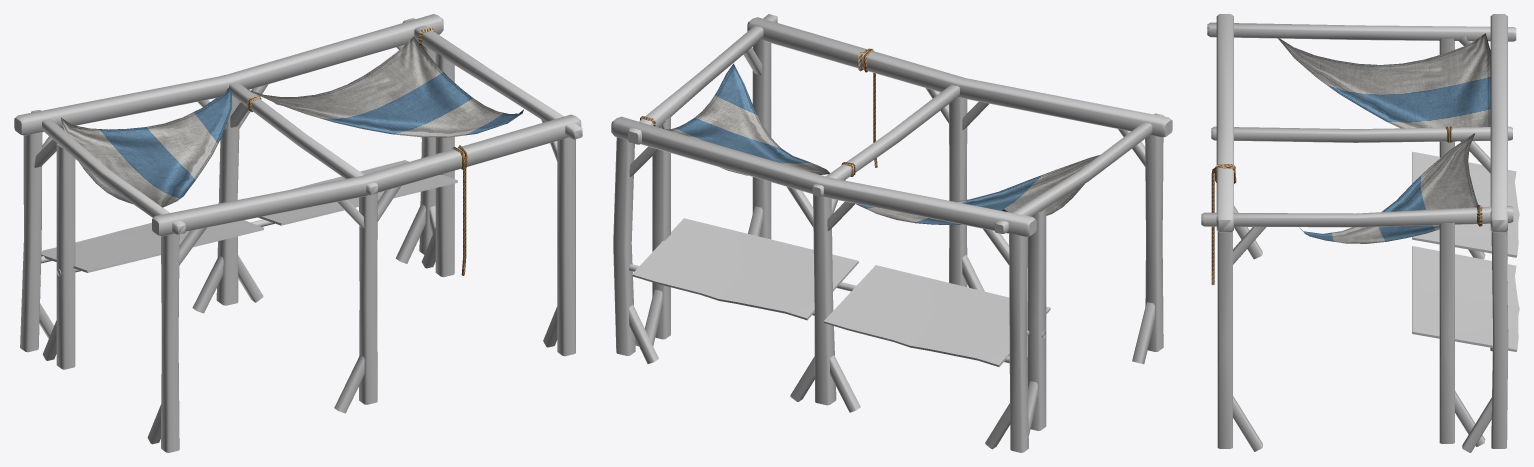
File: booth03_LOD01.fbx
3 renders of one model, left to right at view 1: azimuth 30°, elevation 25°; view 2: azimuth 150°, elevation 25°; view 3: azimuth 270°, elevation 25°, orthographic.
Parts seen in each view (by area): view 1: Mesh Object; view 2: Mesh Object; view 3: Mesh Object.
Part boxes in pixels (left/top/right/bottom): Mesh Object: left=14, top=14, right=582, bottom=452; Mesh Object: left=611, top=14, right=1172, bottom=452; Mesh Object: left=1201, top=14, right=1519, bottom=452.
Size of the model in its own units: 4.4 by 2.39 by 2.88.
